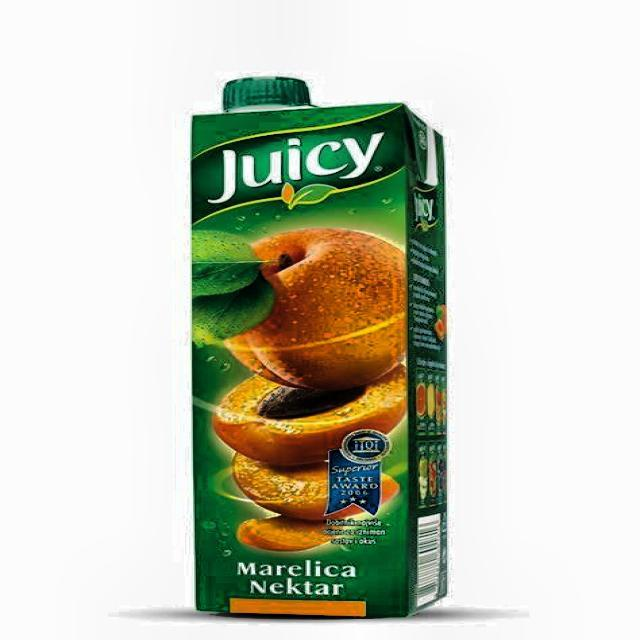cardboard: (189, 77, 450, 618)
